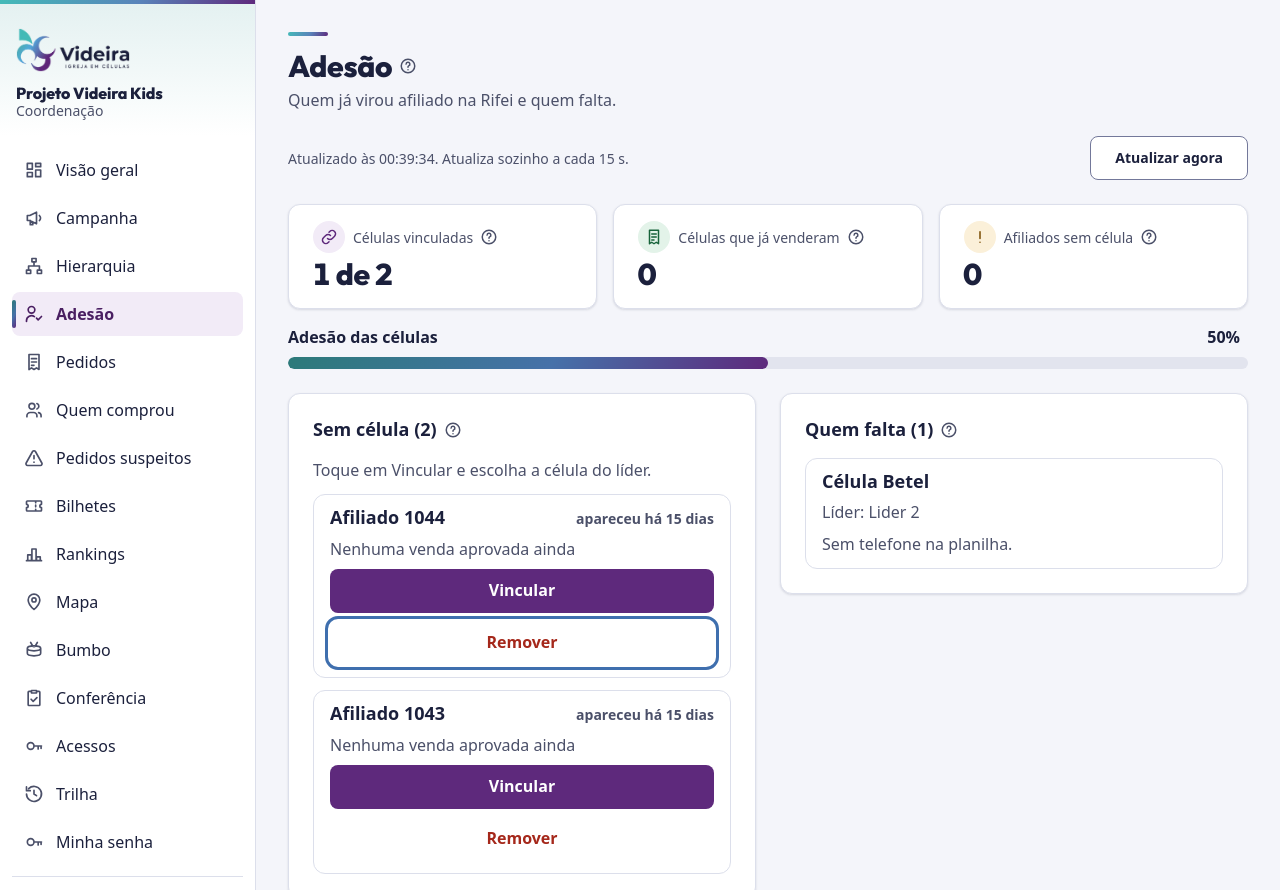
Scenario: CA5: remover › outra falha: explica no diálogo e o foco vai para 'Remover afiliado', para tentar de novo
Expected: the text "Atualizado às 00:39:34. Atualiza sozinho a cada 15 s." is shown, [288, 148, 629, 168]
Click the button named "Remover o afiliado 1044".
click(522, 642)  # box [330, 620, 714, 664]
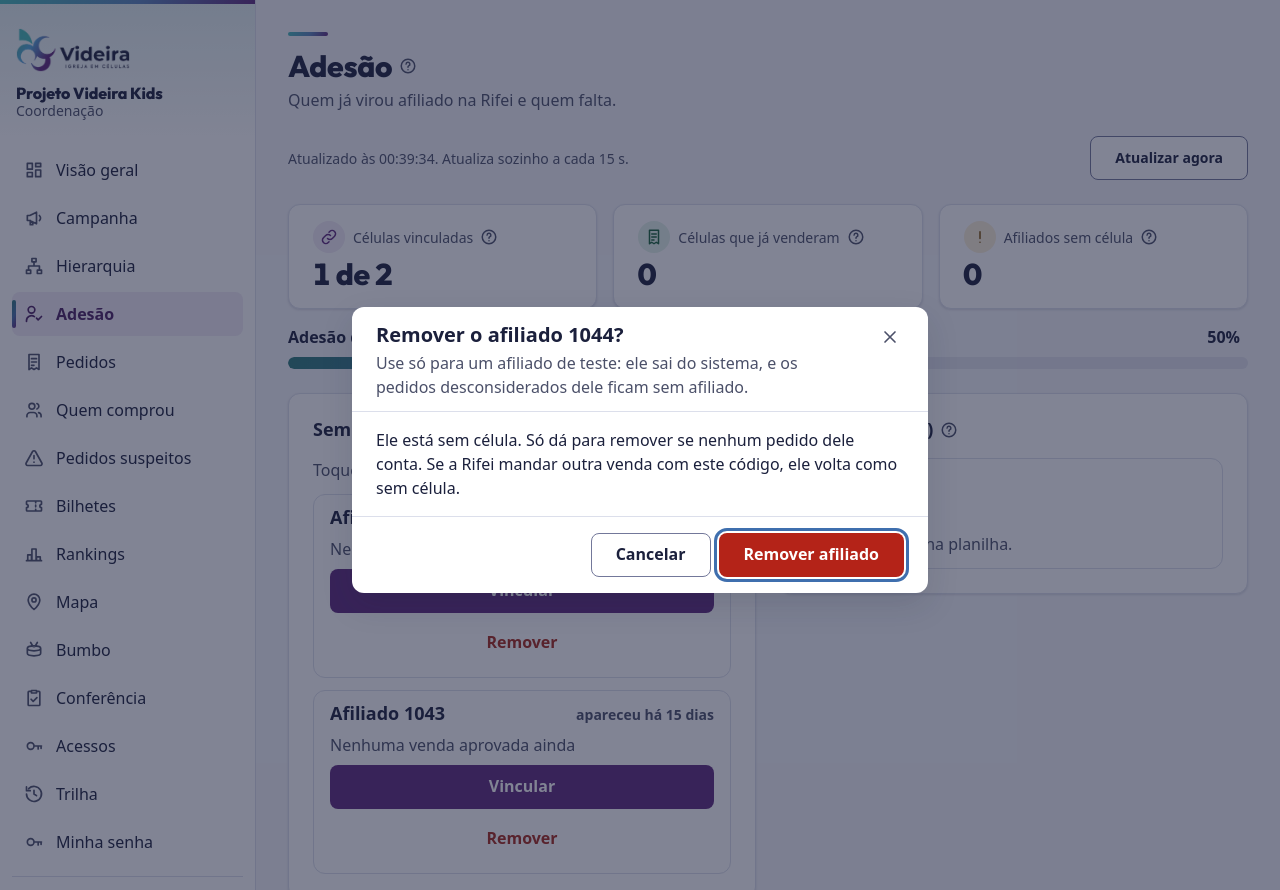
Click the button "Remover afiliado".
click(811, 555)  # box [718, 533, 904, 577]
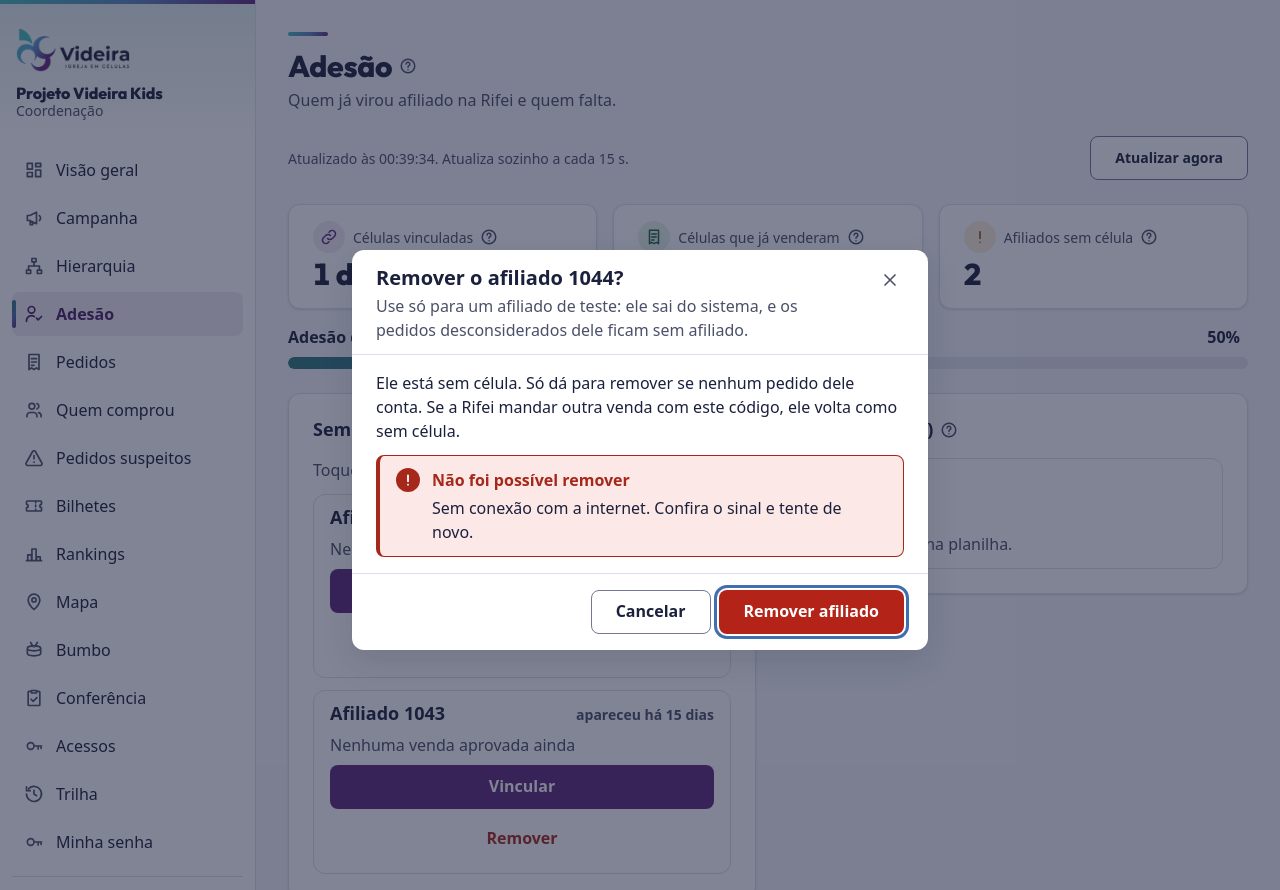
Expected: the text "Não foi possível remover" is shown, [432, 469, 630, 491]
